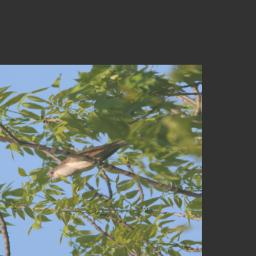Cuckoo: (48, 138, 132, 182)
